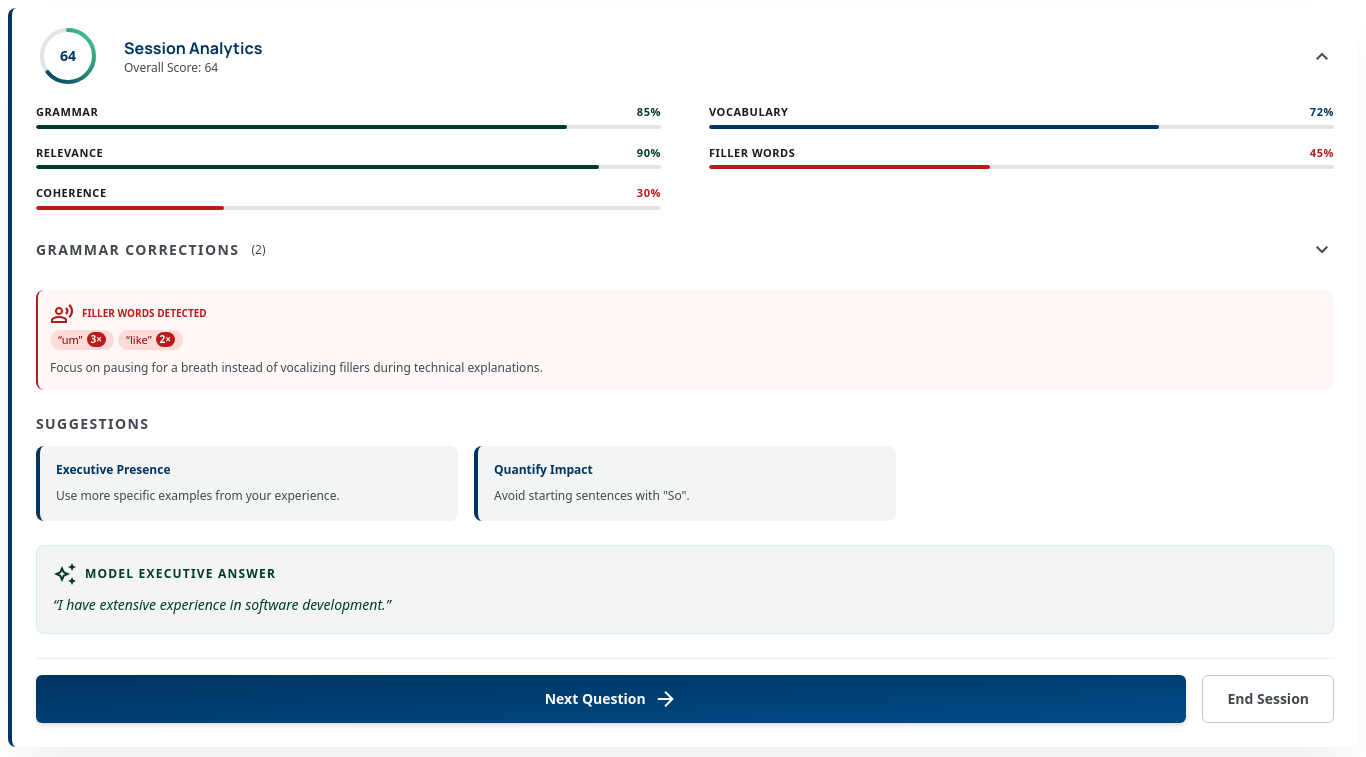
Test: InlineFeedbackCard › renders grammar errors section with expand/collapse
This screenshot has width=1366, height=757.
Note: Expand grammar errors
Click the button with test id "grammar-errors-toggle" at (138, 249), box left=36, top=234, right=1334, bottom=266
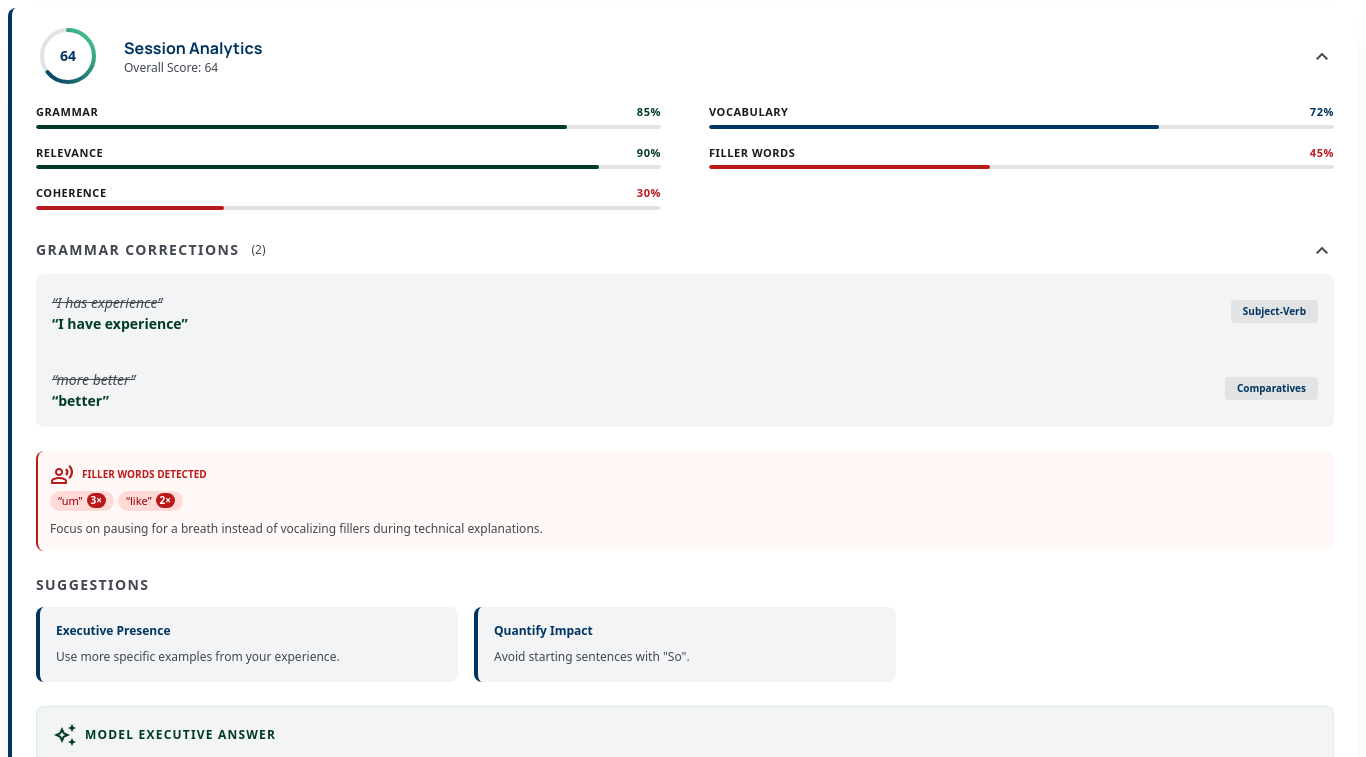
Result: the list item "“I has experience” “I have experience” Subject-Verb" is shown at left=36, top=274, right=1334, bottom=350
